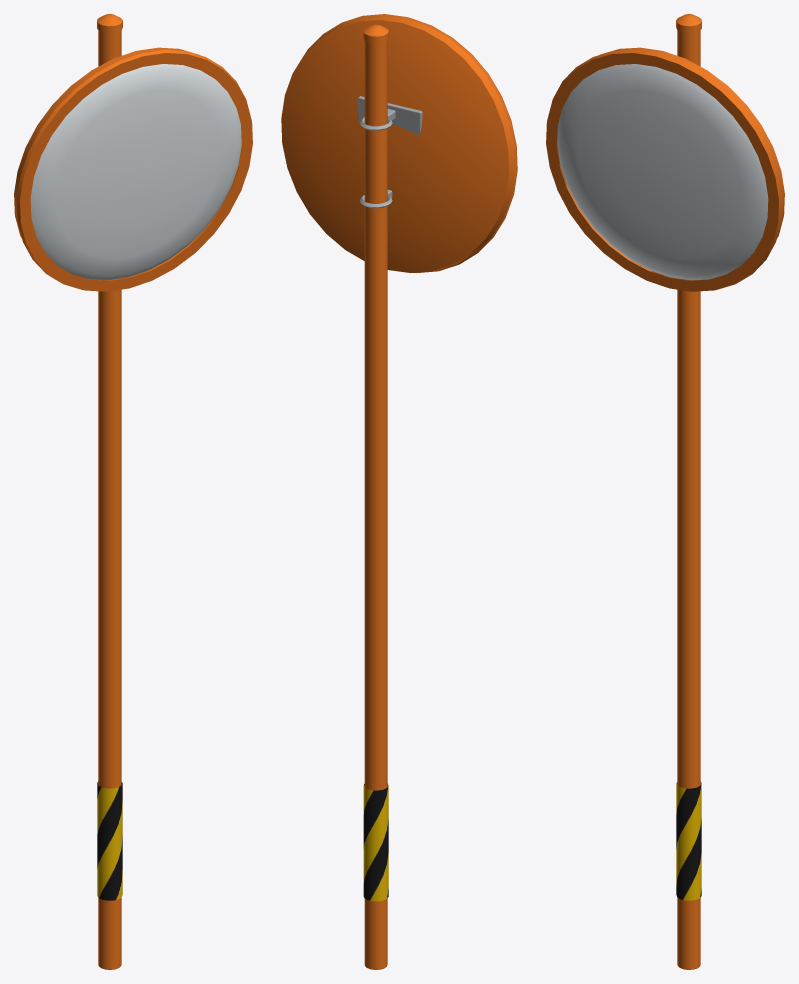
The model's file is convex_traffic_mirror.fbx.
3 views of the same model, side by side, from view 1: azimuth 30°, elevation 25°; view 2: azimuth 150°, elevation 25°; view 3: azimuth 330°, elevation 25° (orthographic).
Parts seen in each view (by area): view 1: convex_traffic_mirror; view 2: convex_traffic_mirror; view 3: convex_traffic_mirror.
Boxes of the visible parts, x1,y1,x2,y2 form: convex_traffic_mirror: [14, 14, 252, 969]; convex_traffic_mirror: [281, 14, 517, 969]; convex_traffic_mirror: [546, 14, 784, 969].
Size of the model in its own units: 0.88 by 3.39 by 0.2711.
4 materials, 1 textured.
